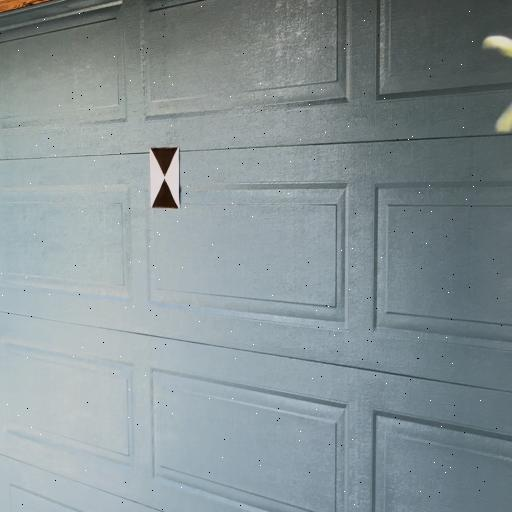target: (150, 148, 180, 209)
